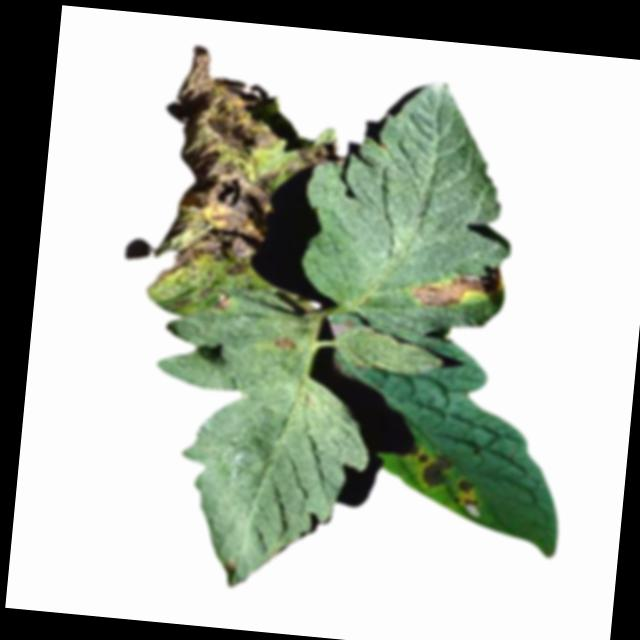Early_blight: (148, 42, 357, 326), (412, 257, 506, 311), (408, 446, 453, 486), (451, 473, 481, 510), (270, 331, 298, 352)
